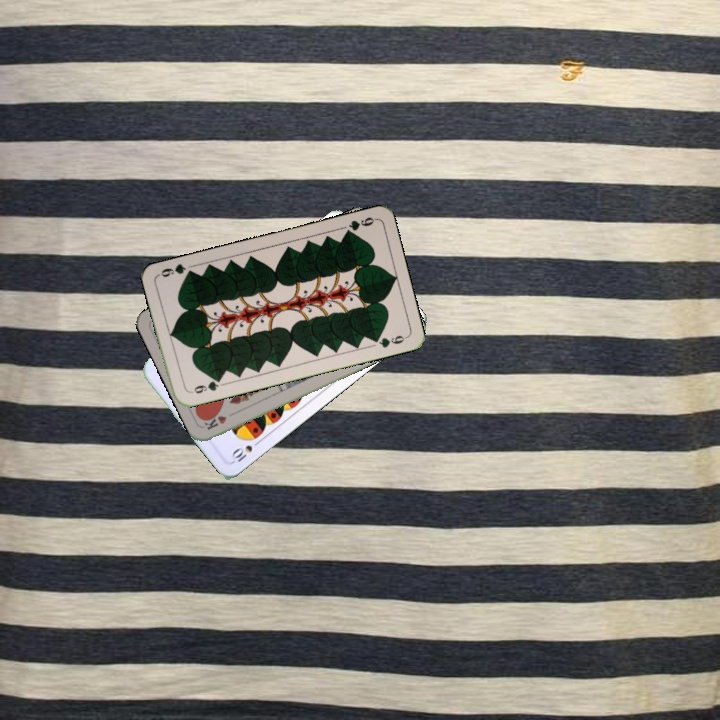G9: (340, 213, 378, 238), (186, 374, 224, 396)
HK: (201, 407, 240, 433)
S10: (227, 436, 264, 466)
